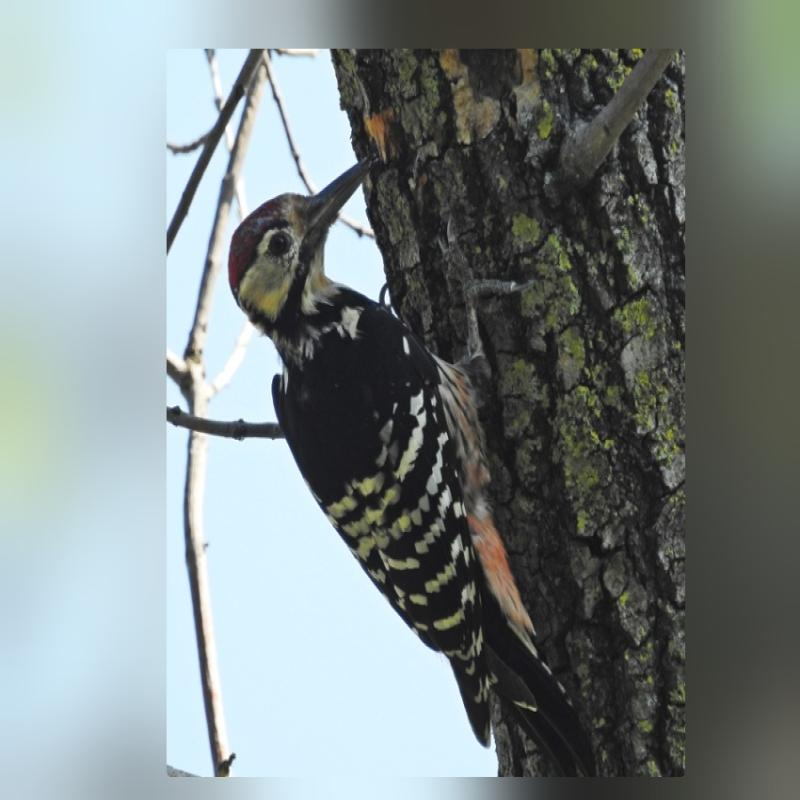white-backed woodpecker: (224, 156, 588, 746)
